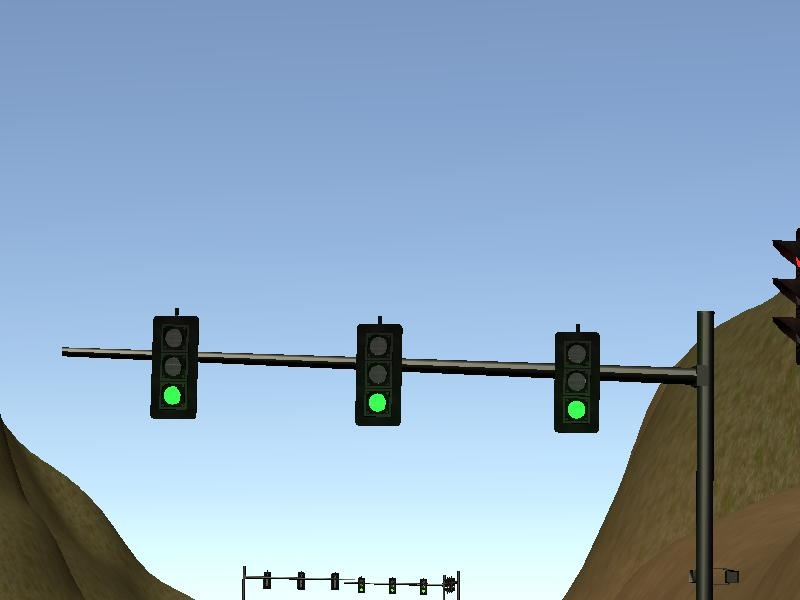green: (148, 308, 203, 426), (354, 318, 406, 426), (551, 329, 600, 435)
